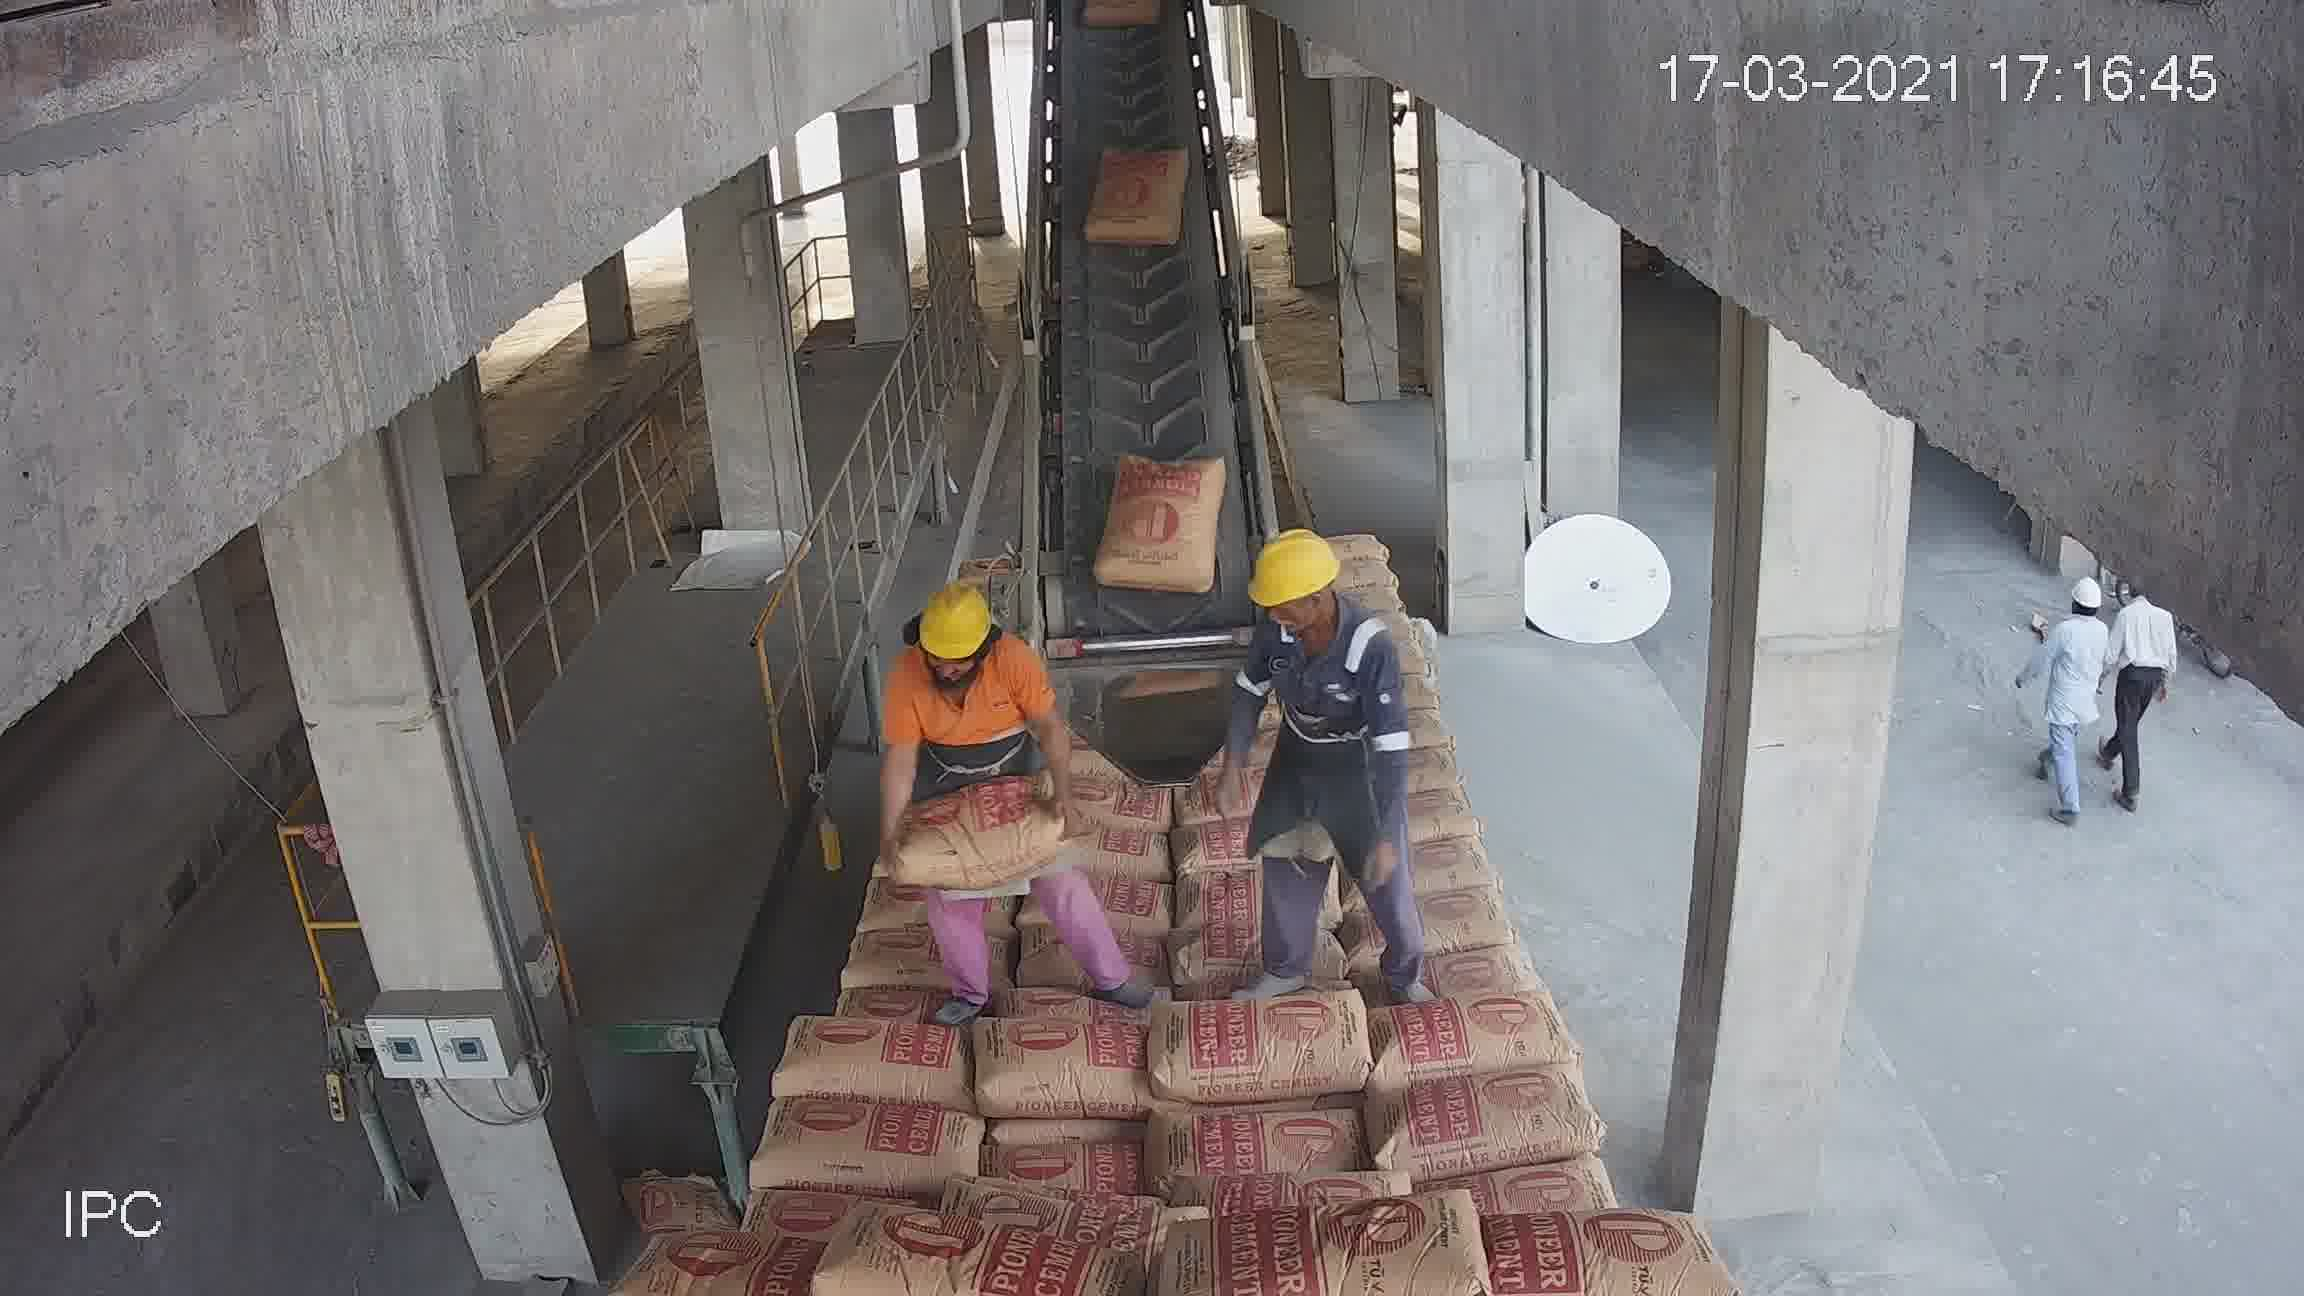bag: (1100, 449, 1231, 590), (1082, 139, 1196, 256)
bag_h: (1195, 1184, 1519, 1294), (788, 1215, 1128, 1296), (1157, 983, 1372, 1108), (1446, 1203, 1714, 1294), (748, 1100, 995, 1196), (1377, 1079, 1587, 1192), (970, 1006, 1155, 1128), (1351, 999, 1579, 1095), (878, 772, 1063, 881), (1158, 1108, 1374, 1198), (775, 1024, 972, 1103), (639, 1230, 848, 1296), (1347, 897, 1510, 981), (1383, 937, 1533, 1011), (813, 968, 975, 1036), (994, 1143, 1161, 1199), (1157, 919, 1282, 981), (1166, 862, 1260, 930), (1163, 813, 1255, 873)
belt: (1014, 24, 1280, 714)
